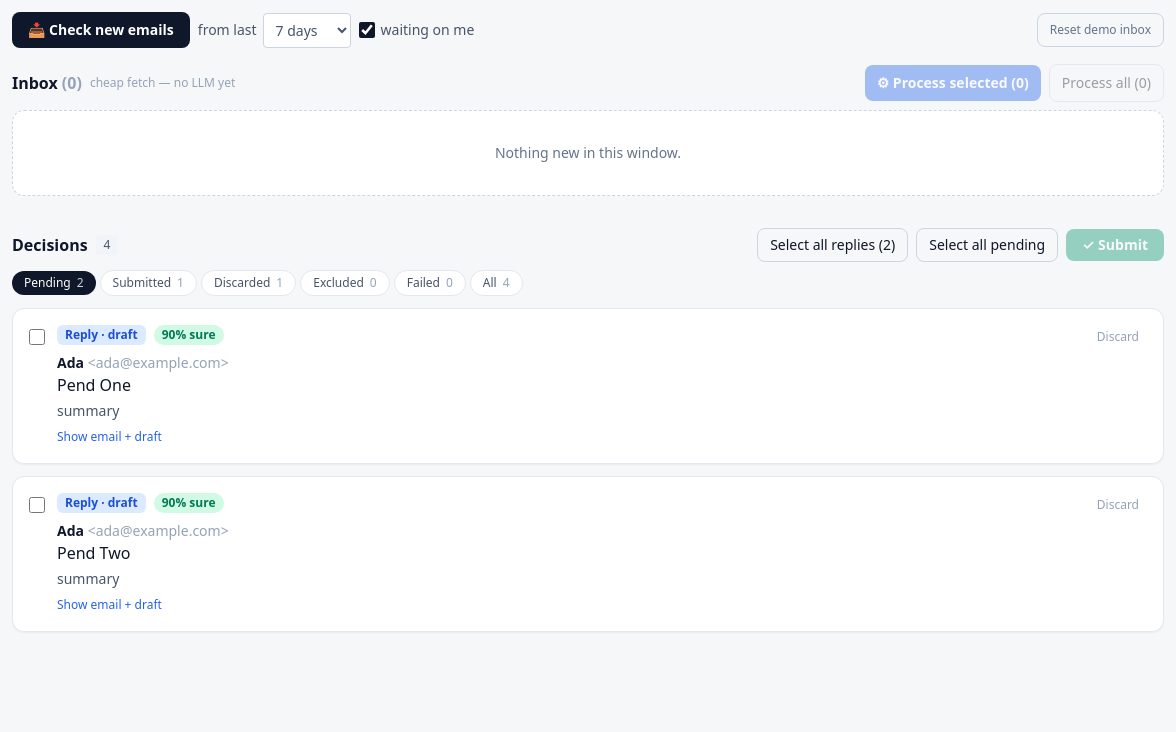
ReviewPage › shows filter chips with correct counts and switches the visible decisions
Expected: the text "Pend One" is shown, top-left (57, 374), bottom-right (131, 396)
Expected: the text "Pend Two" is shown, top-left (57, 542), bottom-right (130, 564)
Click the button "Submitted1": coordinates (148, 283) top-left (100, 270), bottom-right (197, 296)
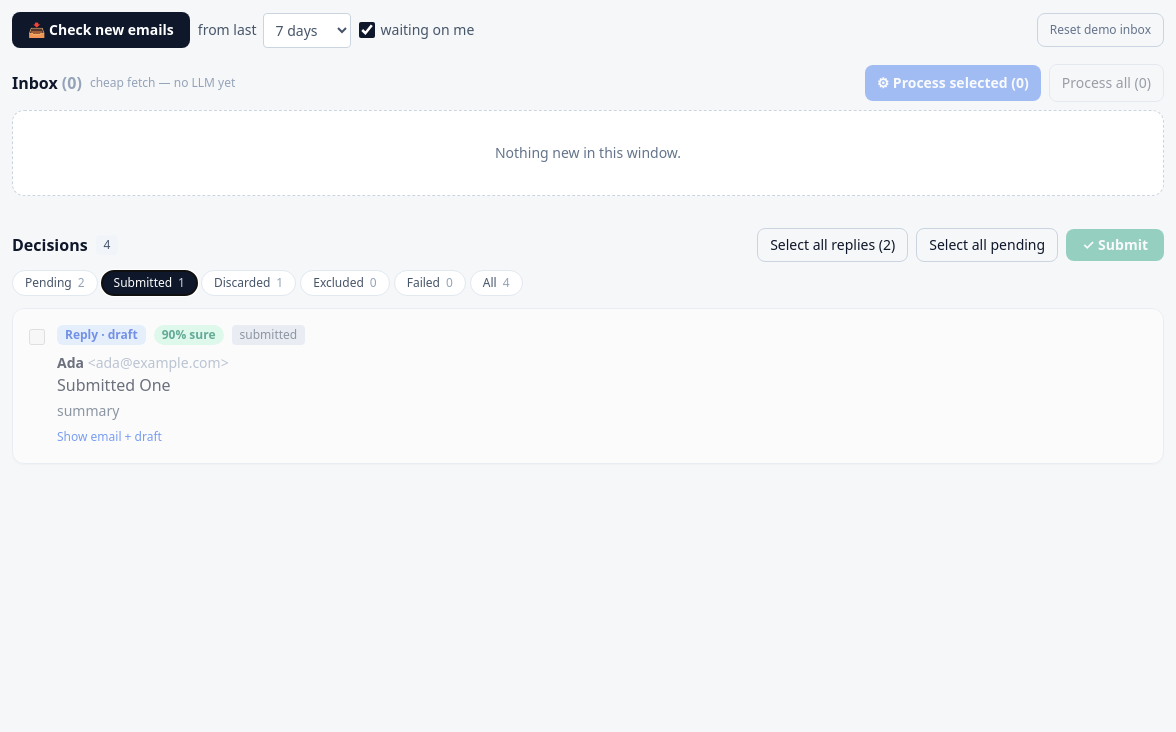
Result: the text "Submitted One" is shown at top-left (57, 374), bottom-right (171, 396)
Result: the text "Pend One" is gone
